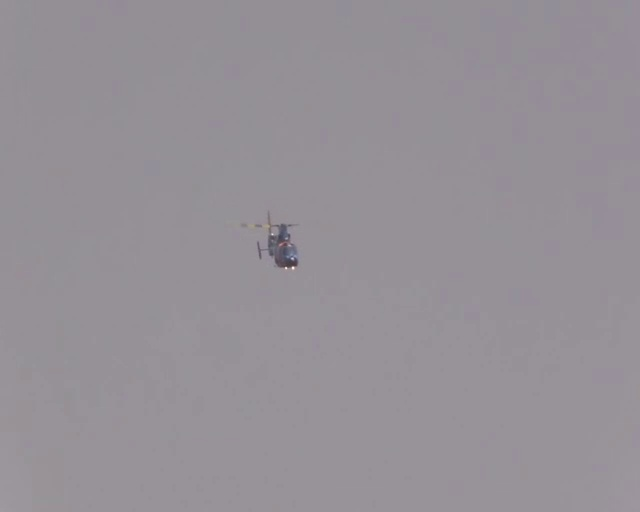HELICOPTER: (239, 209, 300, 269)
